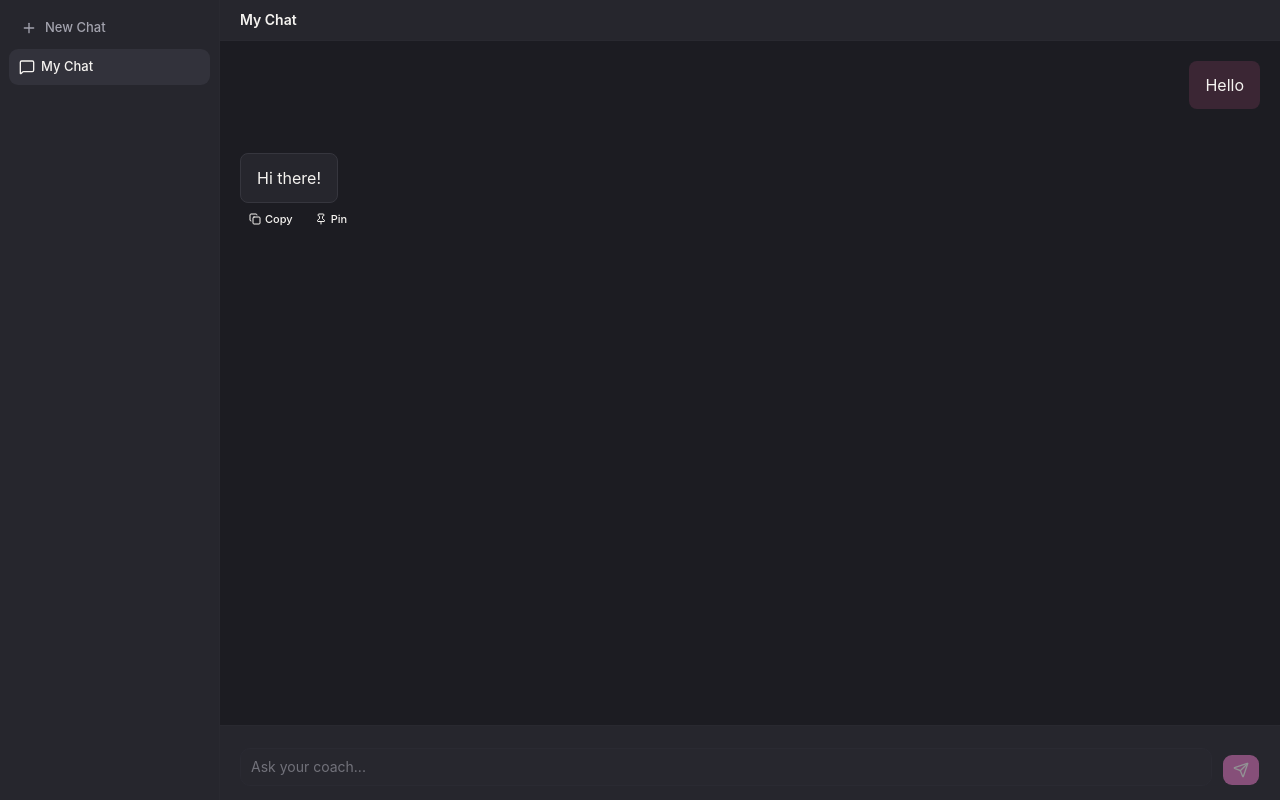
Scenario: Chat event listener regression › deduplicates consecutive progress events with the same status label
The image size is (1280, 800).
Type "test" into the text box with placeholder "Ask your coach...".
click(726, 767); type("test")  # box [240,748,1212,786]
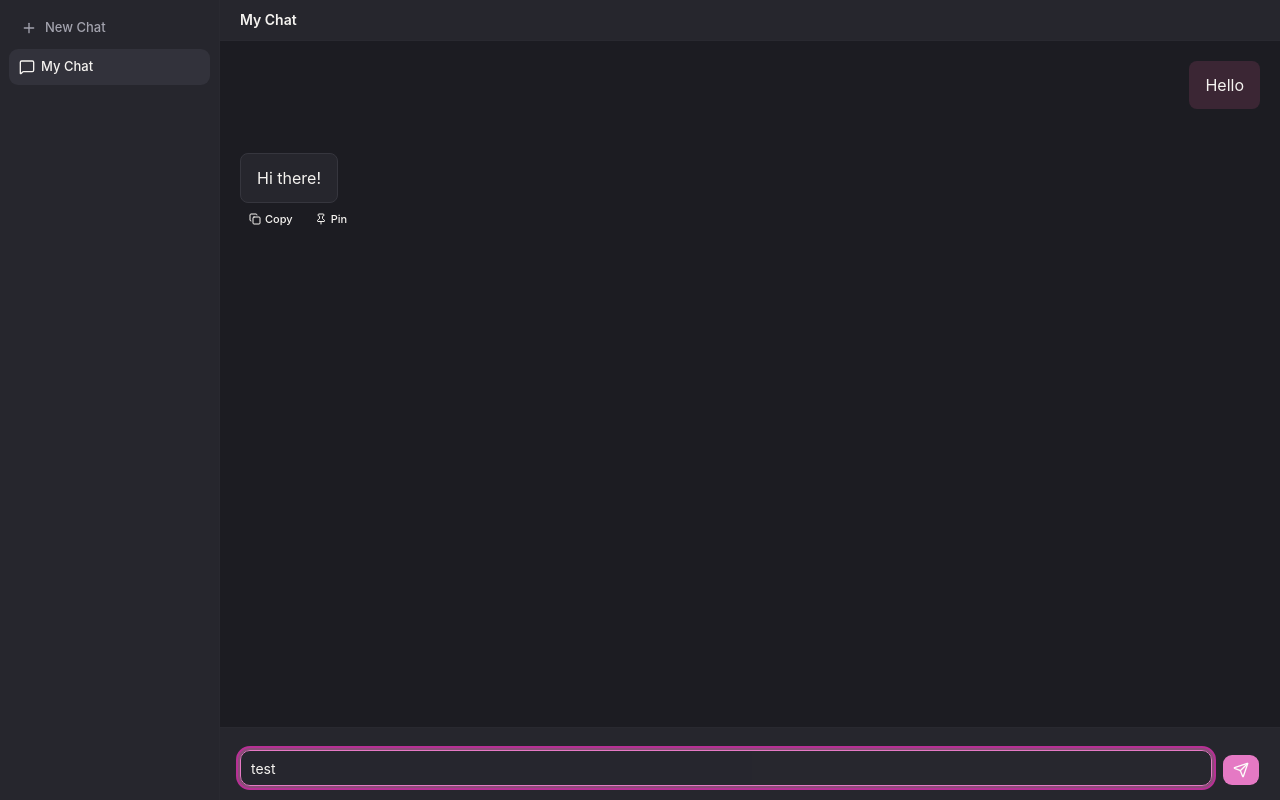
Press Enter
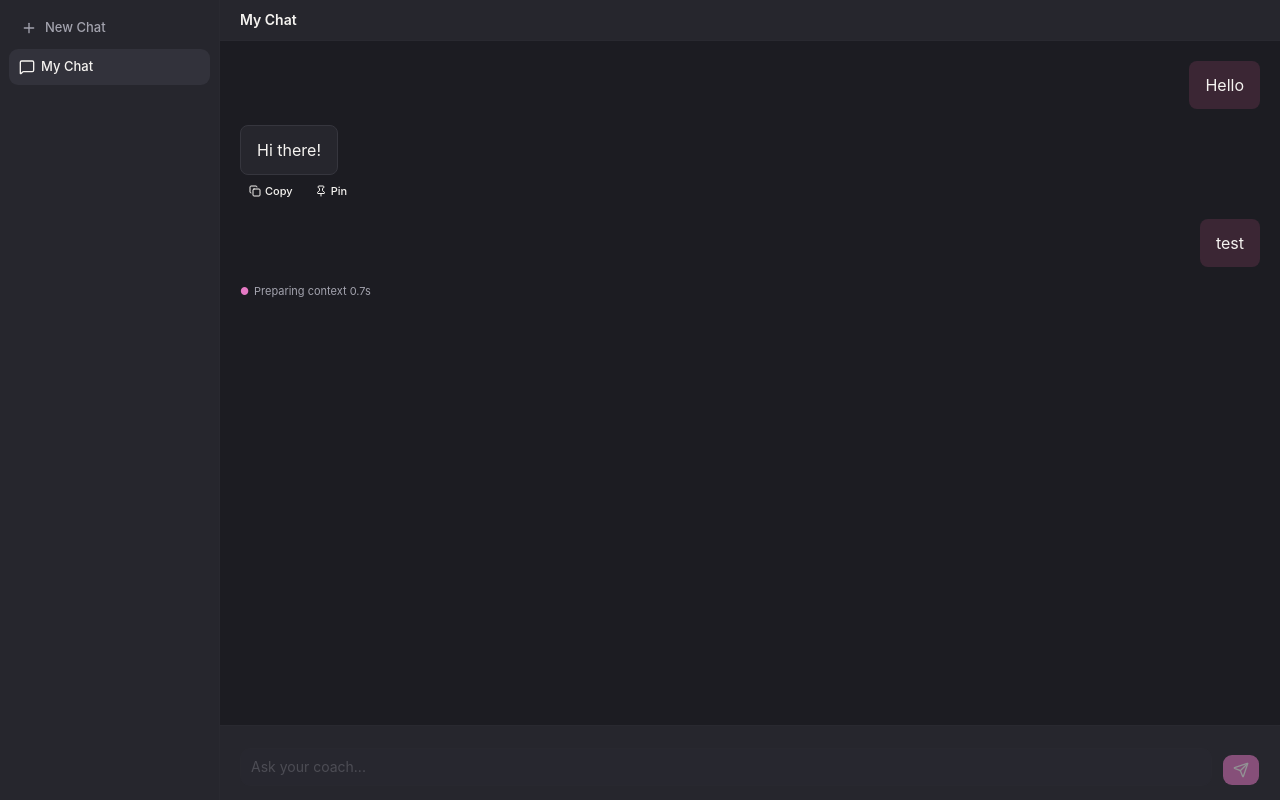
Expected: the text "Preparing context 0.7s" is shown once, [254,283,371,299]
